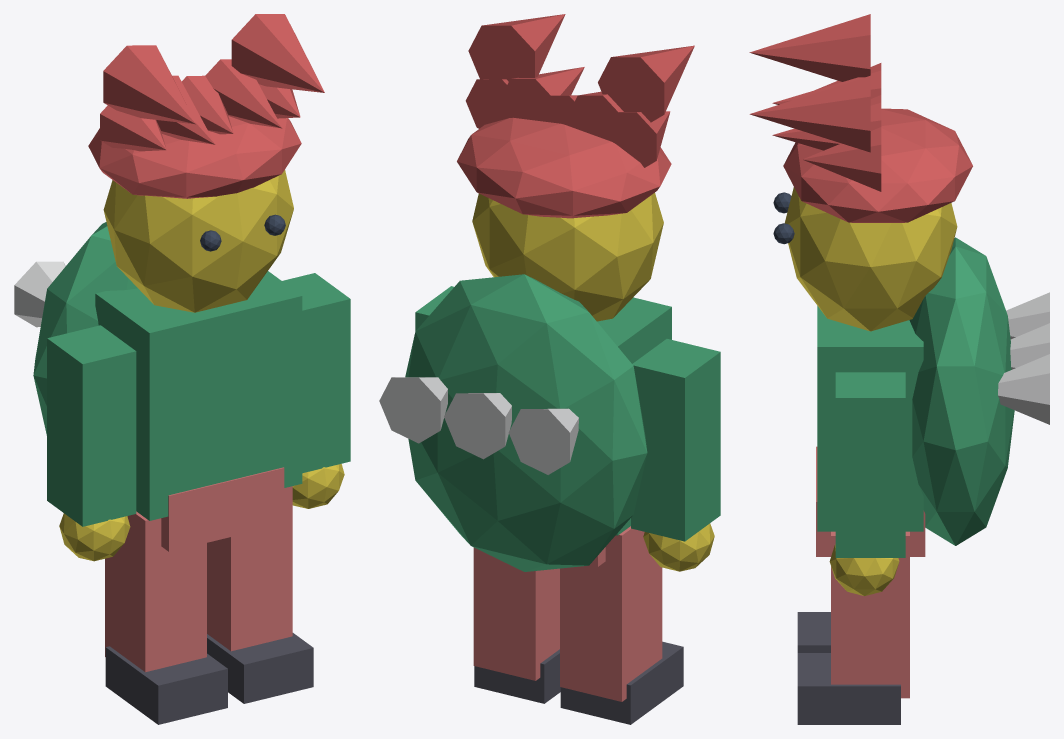
Rendered from bowser.glb.
The picture shows the model from 3 angles, left to right: view 1: azimuth 30°, elevation 25°; view 2: azimuth 150°, elevation 25°; view 3: azimuth 270°, elevation 25°; orthographic projection. The views are drawn at different scales.
Parts seen in each view (by area): view 1: part_000, part_010, part_002, part_004, part_013, part_008, part_006, part_001, part_005, part_021, part_009, part_019 (+9 smaller); view 2: part_021, part_002, part_013, part_010, part_004, part_008, part_019, part_020, part_005, part_022, part_024, part_023 (+8 smaller); view 3: part_021, part_010, part_006, part_013, part_000, part_008, part_009, part_020, part_019, part_024, part_018, part_007 (+6 smaller).
Boxes of the visible parts, left/top/right/bottom form: part_000: left=95, top=271, right=302, bottom=520; part_010: left=103, top=170, right=293, bottom=312; part_002: left=47, top=325, right=136, bottom=526; part_004: left=105, top=511, right=206, bottom=672; part_013: left=88, top=116, right=301, bottom=198; part_008: left=207, top=486, right=292, bottom=651; part_006: left=282, top=273, right=350, bottom=473; part_001: left=161, top=467, right=284, bottom=551; part_005: left=105, top=646, right=227, bottom=724; part_021: left=33, top=222, right=137, bottom=435; part_009: left=207, top=633, right=313, bottom=703; part_019: left=103, top=45, right=195, bottom=124; part_021: left=405, top=274, right=647, bottom=571; part_002: left=631, top=339, right=720, bottom=541; part_013: left=457, top=117, right=671, bottom=218; part_010: left=472, top=193, right=663, bottom=321; part_004: left=560, top=526, right=662, bottom=701; part_008: left=473, top=547, right=559, bottom=680; part_019: left=598, top=45, right=694, bottom=122; part_020: left=468, top=14, right=565, bottom=81; part_005: left=560, top=641, right=683, bottom=724; part_022: left=508, top=408, right=578, bottom=474; part_024: left=379, top=377, right=447, bottom=443; part_023: left=444, top=393, right=511, bottom=459; part_021: left=909, top=237, right=1014, bottom=545; part_010: left=785, top=187, right=957, bottom=331; part_006: left=835, top=372, right=905, bottom=557; part_013: left=783, top=108, right=972, bottom=222; part_000: left=817, top=306, right=923, bottom=531; part_008: left=831, top=531, right=909, bottom=698; part_009: left=797, top=653, right=900, bottom=724; part_020: left=749, top=75, right=870, bottom=152; part_019: left=749, top=14, right=870, bottom=81; part_024: left=998, top=354, right=1049, bottom=424; part_018: left=802, top=127, right=881, bottom=191; part_007: left=829, top=544, right=899, bottom=595.
Size of the model in its own units: 1.21 by 2.72 by 1.16.
